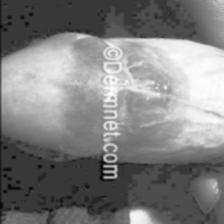Potentially Malignant Skin Tumors: (124, 44, 178, 148), (60, 37, 94, 144)
